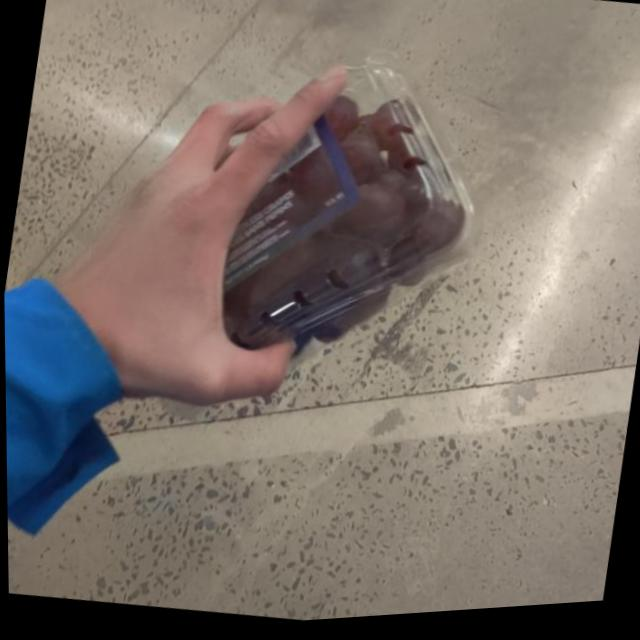Grapes: (103, 26, 499, 419)
